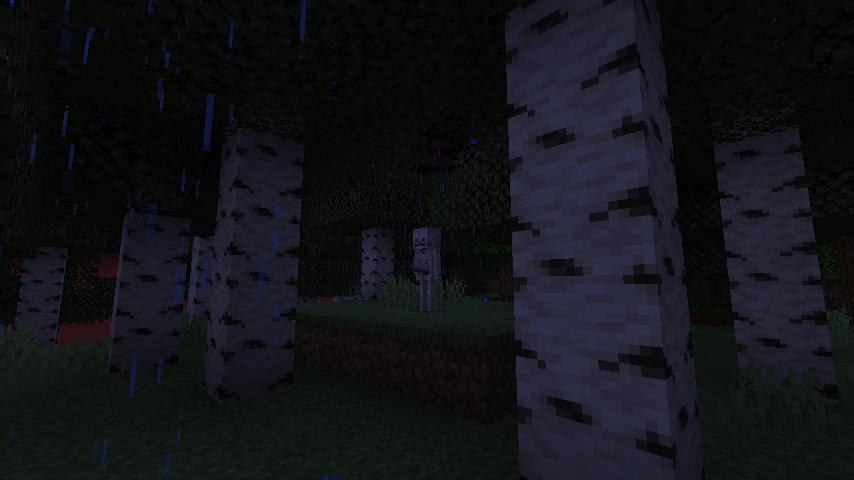skeleton: (406, 227, 446, 313)
